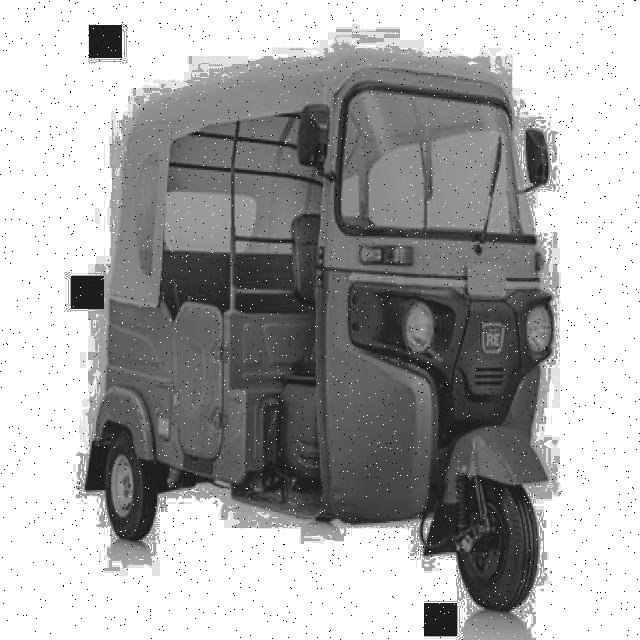Auto-Rickshaw: (93, 62, 587, 638)
